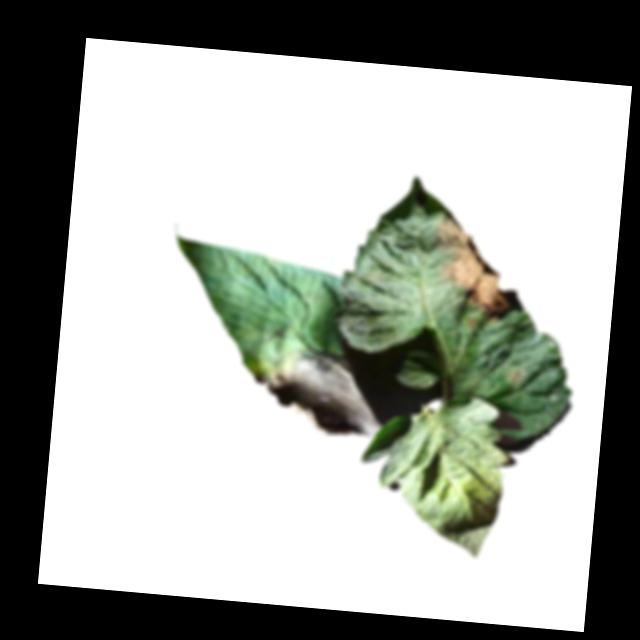Late_blight: (250, 346, 388, 440), (427, 209, 532, 326), (504, 365, 529, 390)
healthy: (353, 386, 513, 560)
